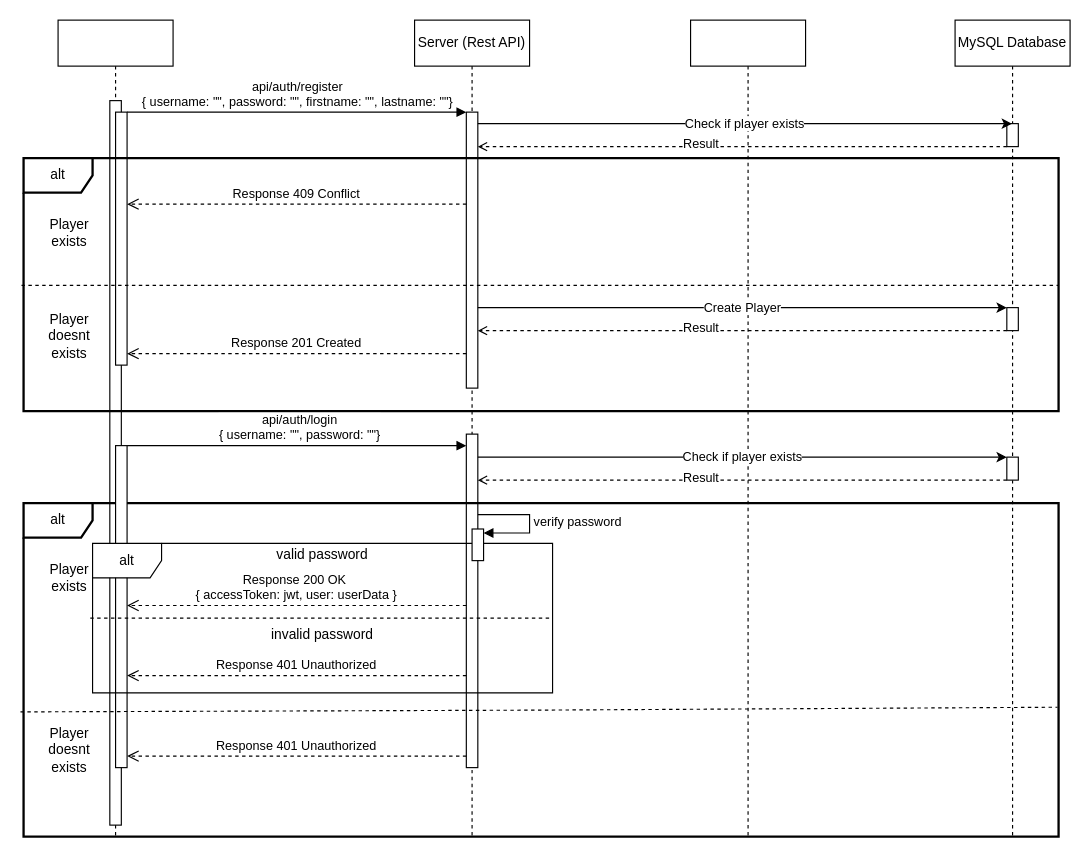
The diagram is 1090 pixels wide and 858 high, and some of its shapes have lost their labels. The box of each missing label's shape, as (x1, y1, x2, y2) in pixels:
Client: (57, 19, 173, 837)
Server (Socket.io): (689, 19, 806, 837)
